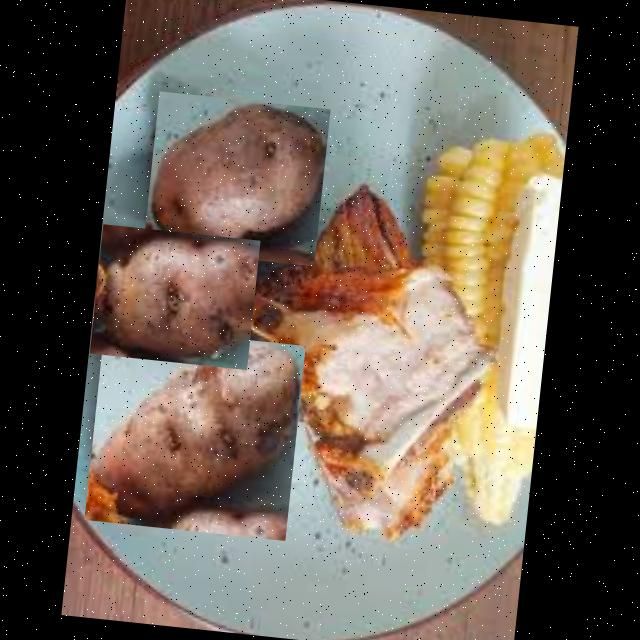Diseased-fungal potato: (84, 323, 305, 540), (142, 90, 330, 265), (89, 222, 260, 368)
